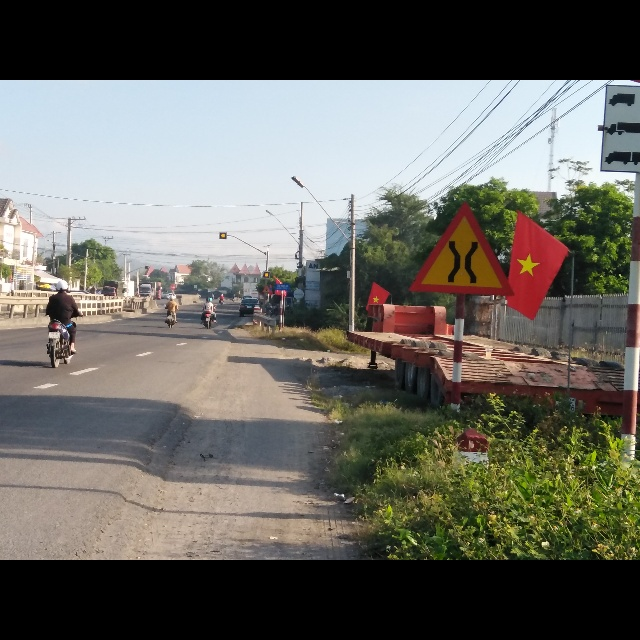Cầu hẹp: (409, 201, 515, 295)
